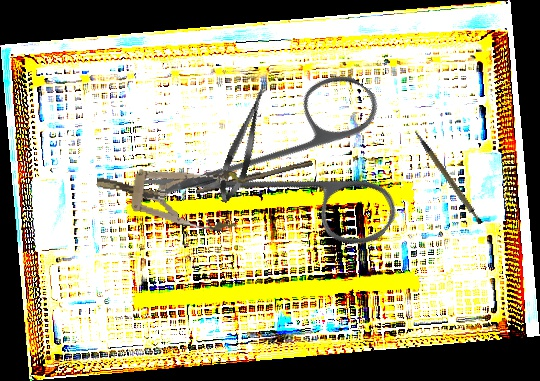Iris Scissors: (132, 12, 448, 327)
Micro Scissor: (212, 83, 275, 207)
Scalpel Handle: (413, 122, 485, 232), (194, 156, 314, 197)
Speculum: (92, 150, 248, 235)
